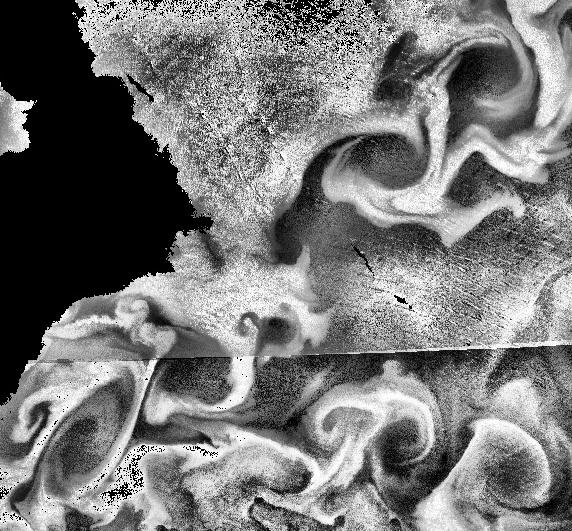AE: (51, 370, 128, 497), (327, 118, 431, 206), (436, 31, 534, 124), (463, 415, 548, 510), (375, 394, 434, 465)
CE: (311, 398, 360, 448), (8, 389, 45, 440)
